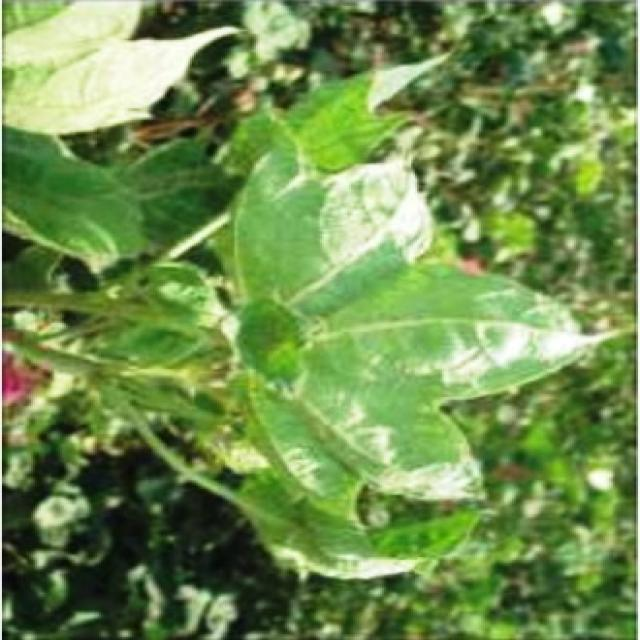Leaf Curl Virus: (168, 138, 491, 518)
